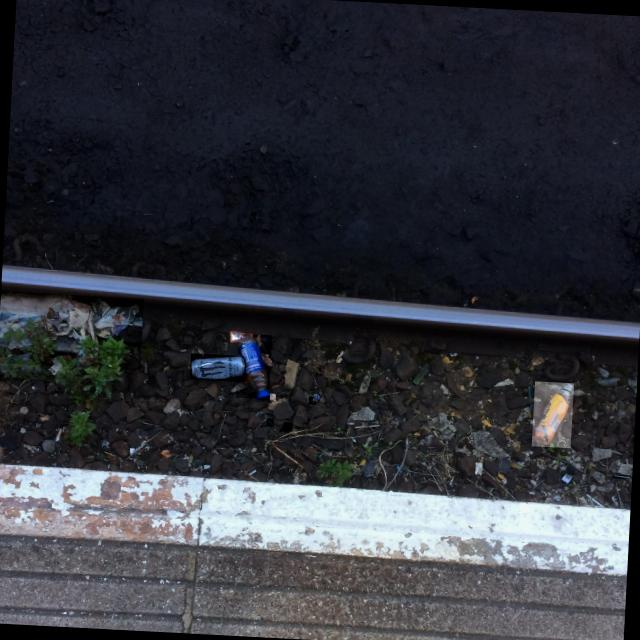Bottle cap: (257, 392, 269, 400), (283, 423, 292, 431), (309, 397, 315, 405), (269, 394, 275, 401), (313, 394, 319, 401)
Cigarette: (57, 429, 62, 443)
Clear plastic bottle: (532, 384, 574, 447), (238, 335, 269, 399)
Drink can: (190, 356, 244, 380)
Other container: (562, 474, 573, 484)
Other plastic: (230, 331, 253, 343)
Other plastic bottle: (267, 419, 273, 427)
Paper bag: (0, 293, 142, 367)
Unlabeled litter: (586, 495, 603, 507), (475, 463, 482, 474), (612, 476, 631, 479)
